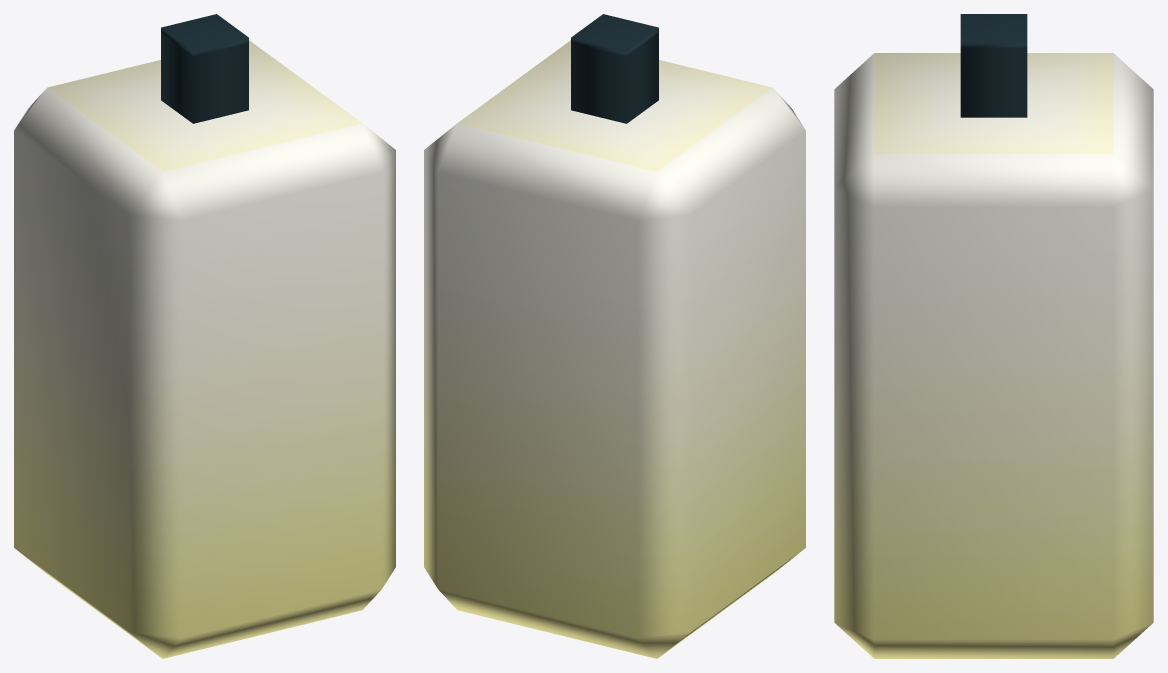
File: candle_big_1.fbx
3 views of the same model, side by side, from view 1: azimuth 30°, elevation 25°; view 2: azimuth 150°, elevation 25°; view 3: azimuth 270°, elevation 25° (orthographic). The views are drawn at different scales.
Visible parts, largest first — view 1: candle_big_1; view 2: candle_big_1; view 3: candle_big_1.
Part boxes in pixels (<box>): candle_big_1: <box>14,14,395,658</box>; candle_big_1: <box>424,14,805,658</box>; candle_big_1: <box>834,14,1153,658</box>.
Size of the model in its own units: 39.91 by 80.1 by 39.91.
1 material, 1 textured.
